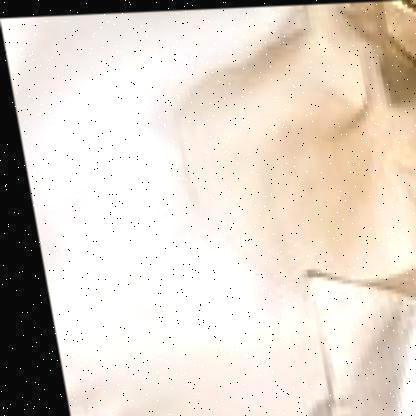coffee: (283, 39, 415, 194)
